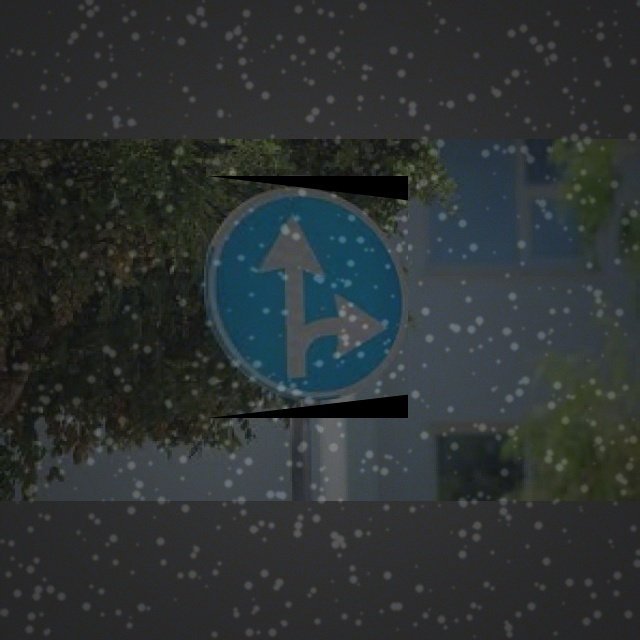Compulsory_Ahead_or_Turn_Right: (207, 176, 408, 418)
